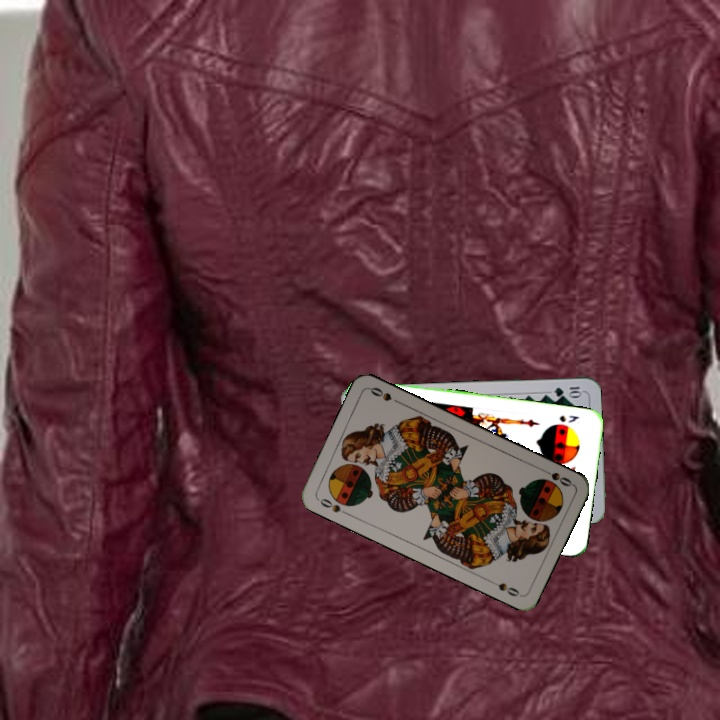G10: (550, 382, 585, 399)
SK: (555, 411, 582, 425)
SO: (537, 464, 575, 489), (314, 494, 352, 518)
